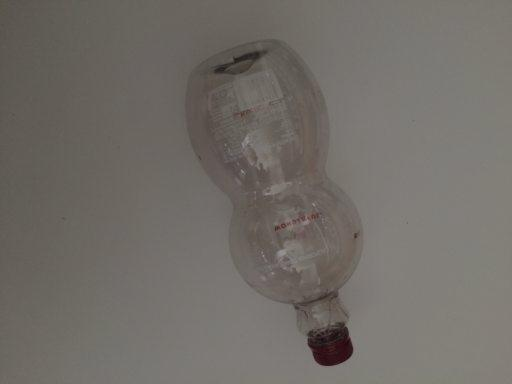glass: (182, 37, 366, 367)
plastic: (183, 38, 365, 367)
